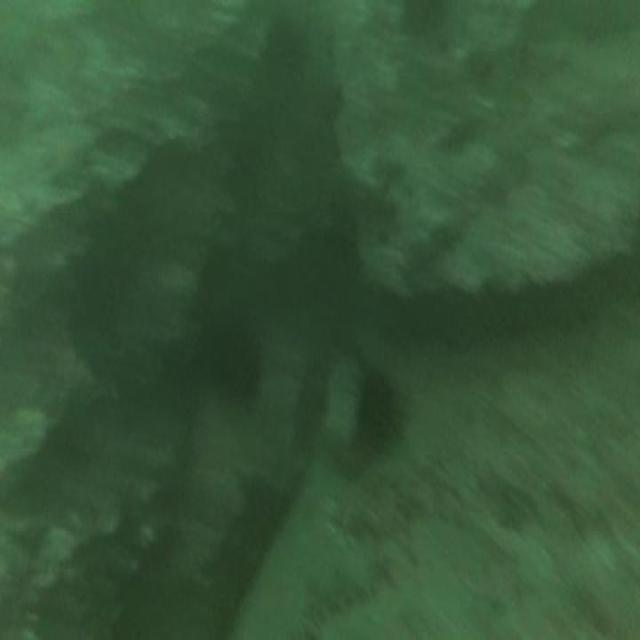echinus: (208, 318, 259, 400), (357, 373, 394, 444)
